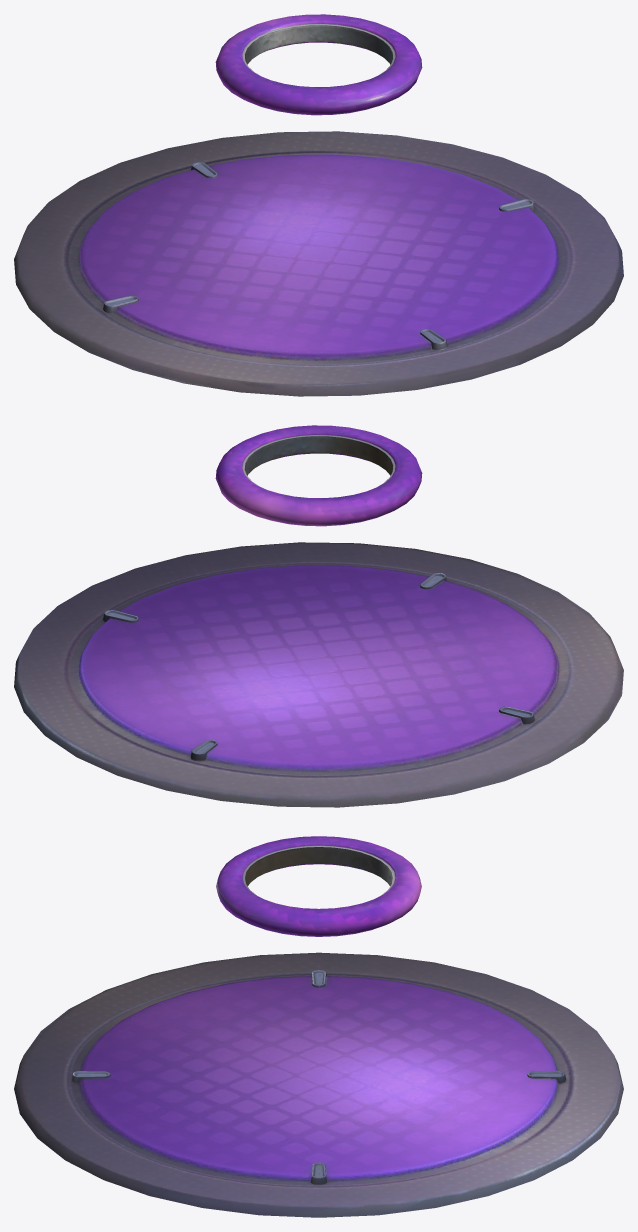
File: pref_TPC_v2_NeutralScoreArea03_purple_idle_lv1.fbx
The picture shows the model from 3 angles, top to bottom: view 1: azimuth 30°, elevation 25°; view 2: azimuth 150°, elevation 25°; view 3: azimuth 270°, elevation 25°; orthographic projection.
Parts seen in each view (by area): view 1: sm_prop_platform06a_lv1, sm_prop_platform06b_lv1; view 2: sm_prop_platform06a_lv1, sm_prop_platform06b_lv1; view 3: sm_prop_platform06a_lv1, sm_prop_platform06b_lv1.
Part boxes in pixels (left/top/right/bottom): sm_prop_platform06a_lv1: left=14, top=131, right=623, bottom=396; sm_prop_platform06b_lv1: left=215, top=14, right=422, bottom=115; sm_prop_platform06a_lv1: left=14, top=542, right=623, bottom=807; sm_prop_platform06b_lv1: left=215, top=425, right=422, bottom=526; sm_prop_platform06a_lv1: left=14, top=952, right=623, bottom=1217; sm_prop_platform06b_lv1: left=216, top=836, right=421, bottom=936.
Bounding box in the file's own units: 7.46 × 2.88 × 7.46.
2 materials, 2 textured.
